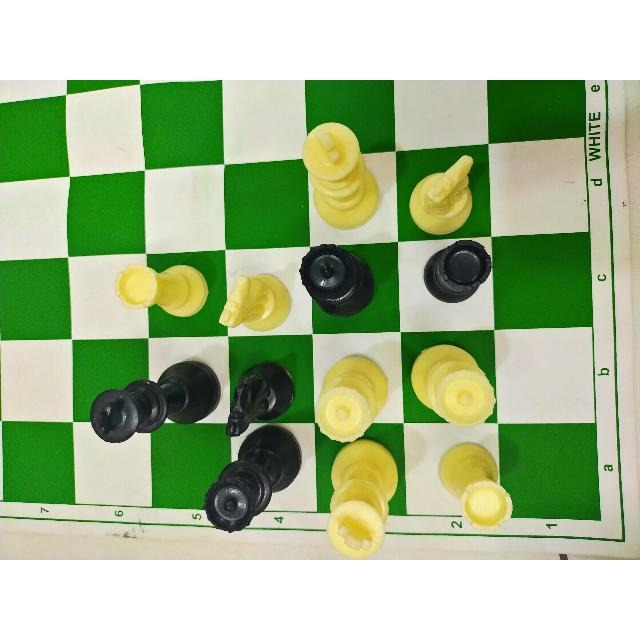black-king: (88, 357, 222, 445)
black-knight: (222, 360, 295, 440)
black-queen: (202, 423, 303, 534), (299, 242, 377, 320)
black-rook: (421, 238, 492, 304)
white-king: (323, 434, 401, 559), (301, 120, 381, 232)
white-knight: (407, 153, 477, 237), (215, 271, 292, 333)
white-queen: (409, 342, 497, 430), (312, 354, 389, 446)
white-rook: (436, 440, 516, 534), (112, 262, 209, 319)
